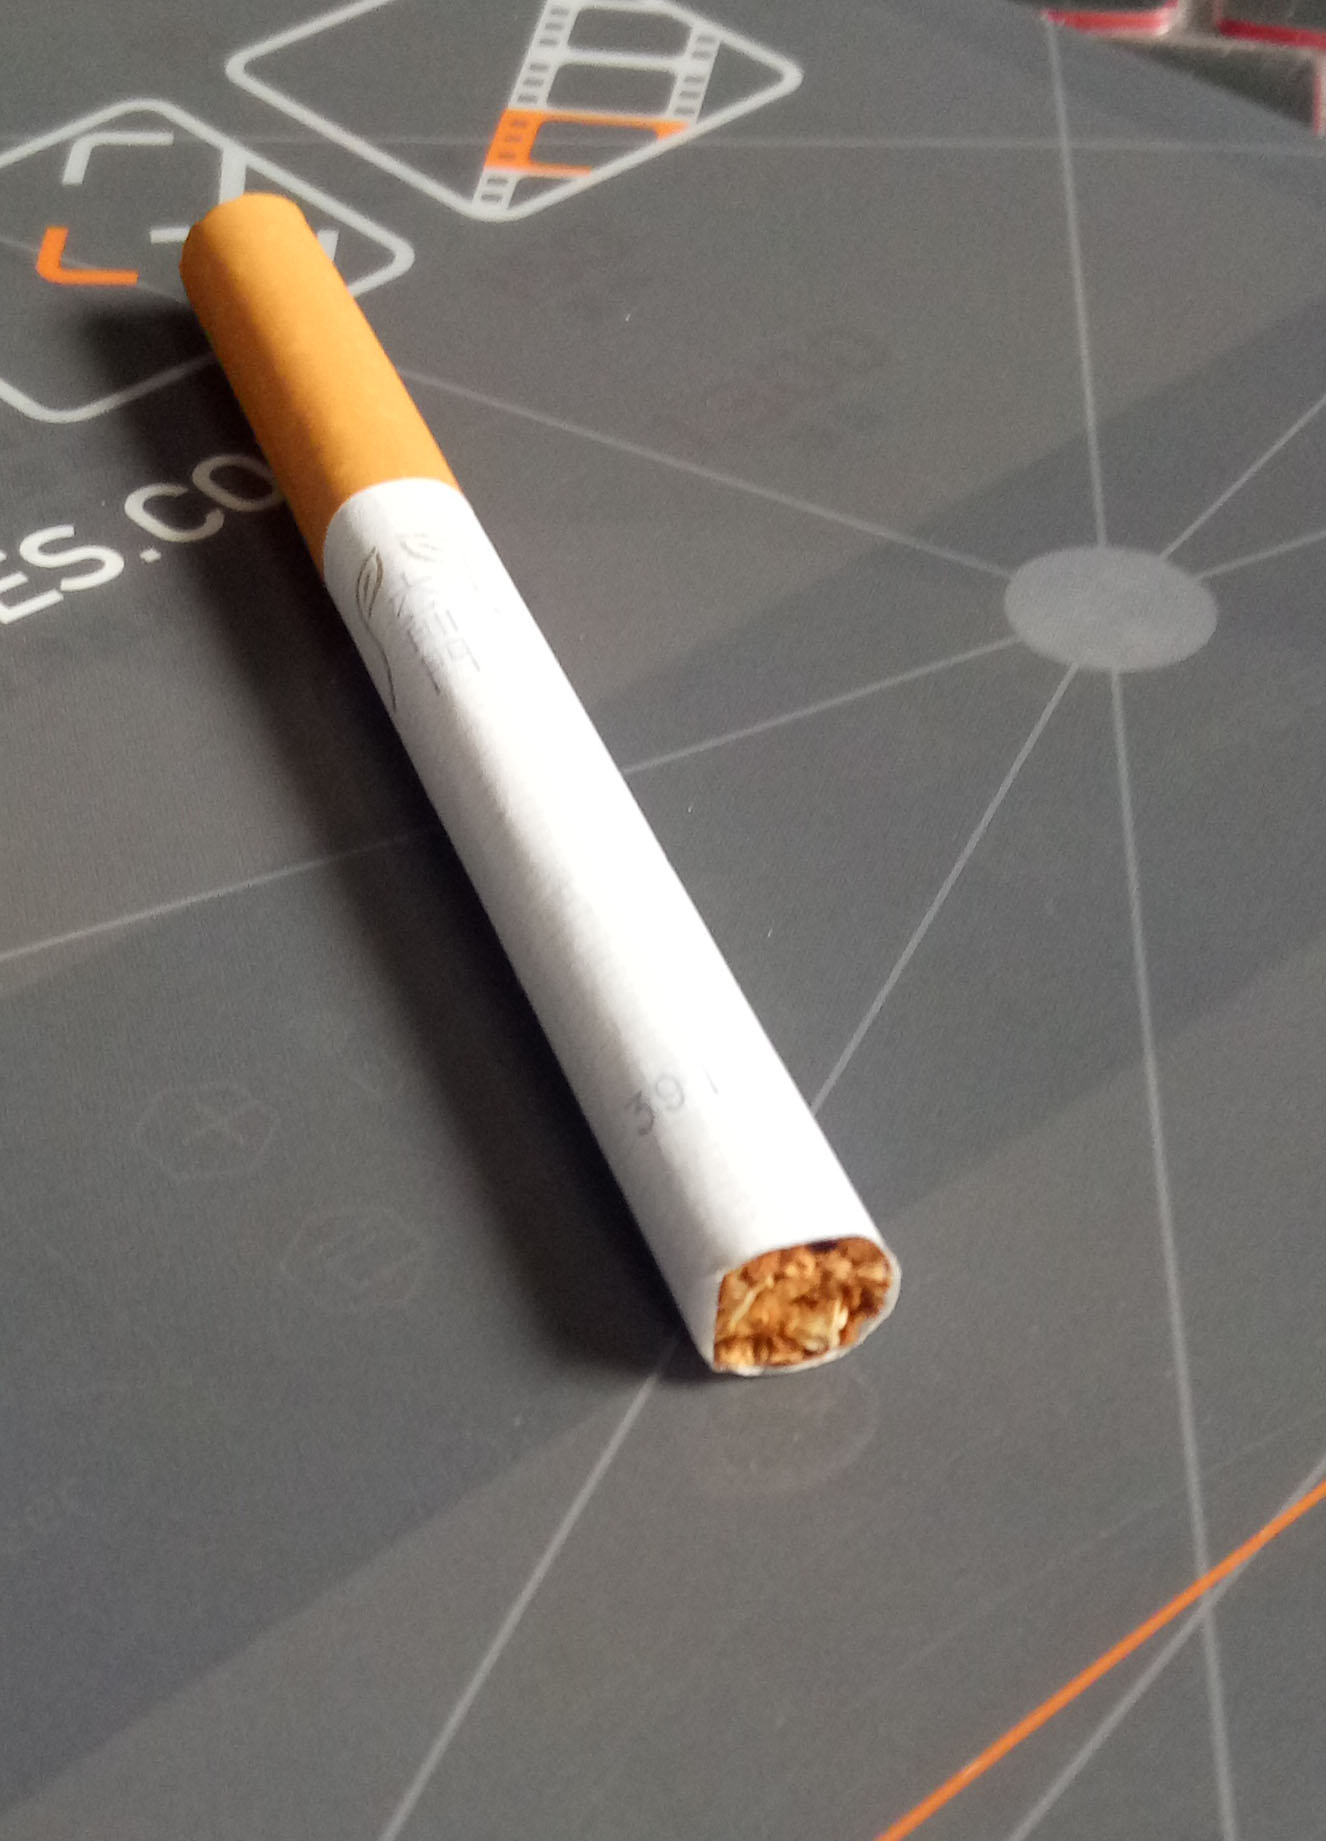cigarette: (170, 167, 917, 1406)
